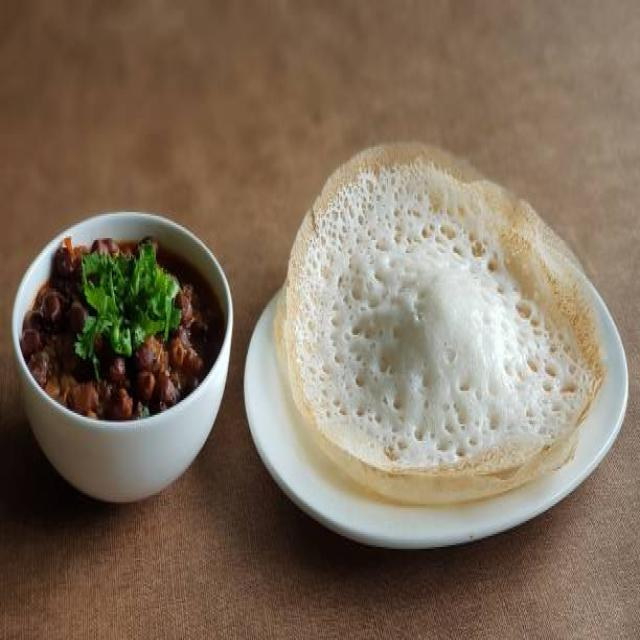AAPAM: (273, 129, 607, 512)
CURRY: (17, 226, 225, 420)
